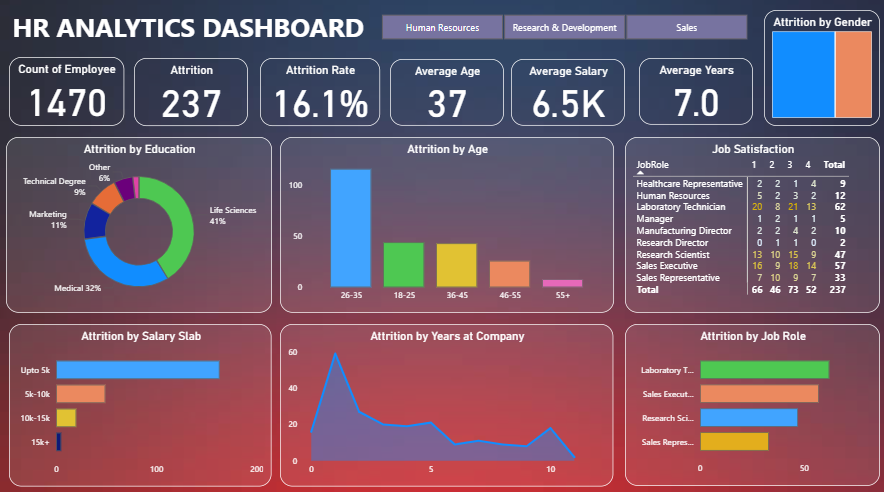

The page's visual inventory and layout, read from the dashboard file:
{"tool":"powerbi","page":{"name":"Page 1","canvas":[1280,720],"ordinal":0},"visuals":[{"type":"card","title":"Count of Employee","fields":{"Values":["CountNonNull(HR_Analytics.EmpID)"]},"box":[15.8,89.3,165.6,99.4],"z":0},{"type":"card","title":"Attrition","fields":{"Values":["Sum(HR_Analytics.Attrition count)"]},"box":[195.8,90.7,164.2,97.9],"z":1000},{"type":"card","title":"Attrition Rate","fields":{"Values":["HR_Analytics.AttritionRate"]},"box":[377.3,90.7,172.8,97.9],"z":2000},{"type":"card","title":"Average Age","fields":{"Values":["Avg(HR_Analytics.Age)"]},"box":[564.5,92.2,164.2,96.5],"z":3000},{"type":"card","title":"Average Years","fields":{"Values":["Avg(HR_Analytics.YearsAtCompany)"]},"box":[923,90.7,164.2,96.5],"z":4000},{"type":"card","title":"Average Salary","fields":{"Values":["Avg(HR_Analytics.MonthlyIncome)"]},"box":[738.7,92.2,164.2,96.5],"z":5000},{"type":"donutChart","title":"Attrition by Education","fields":{"Y":["CountNonNull(HR_Analytics.Attrition)"],"Category":["HR_Analytics.EducationField"]},"box":[11.5,204.5,383,253.4],"z":6000},{"type":"columnChart","title":"Attrition by Age","fields":{"Category":["HR_Analytics.AgeGroup"],"Y":["Sum(HR_Analytics.AttritionCount)"]},"box":[406.1,204.5,481,253.4],"z":7000},{"type":"barChart","title":"Attrition by Salary Slab","fields":{"Y":["Sum(HR_Analytics.AttritionCount)"],"Category":["HR_Analytics.SalarySlab"]},"box":[15.1,473.5,378.5,234],"z":8000},{"type":"areaChart","title":"Attrition by Years at Company","fields":{"Category":["HR_Analytics.YearsAtCompany"],"Y":["Sum(HR_Analytics.AttritionCount)"]},"box":[406,473.5,480.3,234],"z":9000},{"type":"pivotTable","title":"Job Satisfaction","fields":{"Rows":["HR_Analytics.JobRole"],"Columns":["HR_Analytics.JobSatisfaction"],"Values":["Sum(HR_Analytics.AttritionCount)"]},"box":[902.9,205.1,367.5,253.2],"z":10000},{"type":"barChart","title":"Attrition by Job Role","fields":{"Y":["Sum(HR_Analytics.AttritionCount)"],"Category":["HR_Analytics.JobRole"]},"box":[902.9,473.8,367.2,233.3],"z":11000},{"type":"treemap","title":"Attrition by Gender","fields":{"Group":["HR_Analytics.Gender"],"Values":["Sum(HR_Analytics.AttritionCount)"]},"box":[1103,21.6,167,167],"z":12000},{"type":"slicer","fields":{"Values":["HR_Analytics.Department"]},"box":[527,21.6,576,49],"z":13000},{"type":"textbox","box":[15.8,15.8,522.7,60.5],"z":14000}]}

Visuals, with their boxes in screenshot pixels (x1, y1, x2, y2), scaled from the page's 1280x720 canvas onto the 884x492 screenshot:
"Count of Employee" card: box(11, 61, 125, 129)
"Attrition" card: box(135, 62, 249, 129)
"Attrition Rate" card: box(261, 62, 380, 129)
"Average Age" card: box(390, 63, 503, 129)
"Average Years" card: box(637, 62, 751, 128)
"Average Salary" card: box(510, 63, 624, 129)
"Attrition by Education" donutChart: box(8, 140, 272, 313)
"Attrition by Age" columnChart: box(280, 140, 613, 313)
"Attrition by Salary Slab" barChart: box(10, 324, 272, 483)
"Attrition by Years at Company" areaChart: box(280, 324, 612, 483)
"Job Satisfaction" pivotTable: box(624, 140, 877, 313)
"Attrition by Job Role" barChart: box(624, 324, 877, 483)
"Attrition by Gender" treemap: box(762, 15, 877, 129)
slicer - HR_Analytics.Department: box(364, 15, 762, 48)
textbox: box(11, 11, 372, 52)
